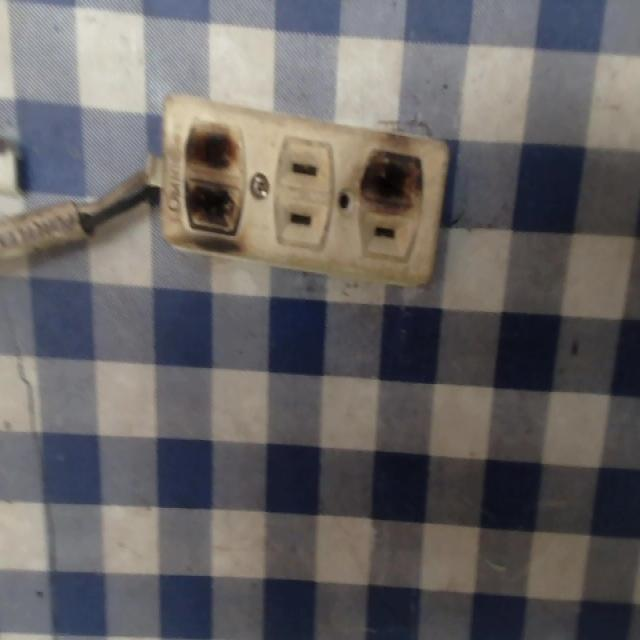-: (180, 116, 249, 260), (352, 139, 423, 212)
